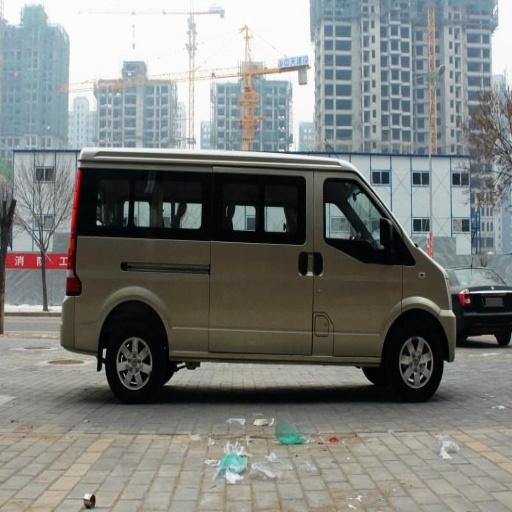back_right_door: (250, 168, 313, 319)
trunk: (61, 239, 228, 351)
